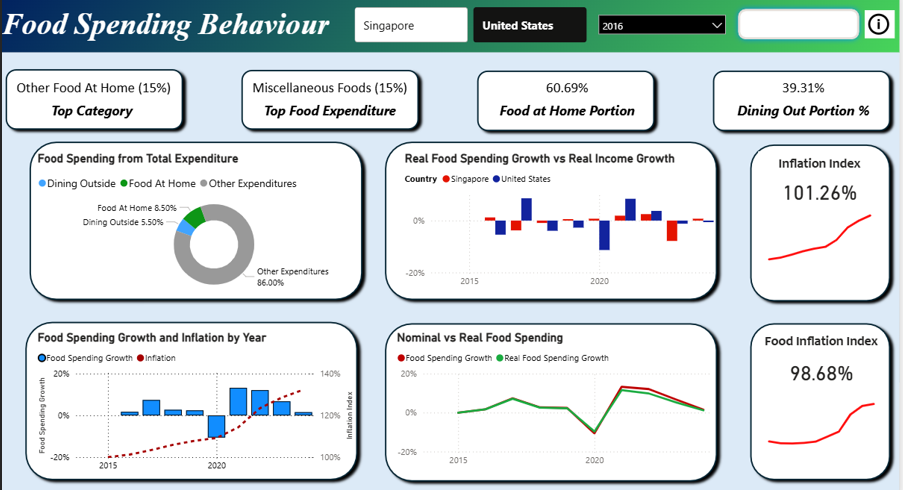

Layout of this report page (visuals, bound fields, positions):
{"tool":"powerbi","page":{"name":"Main Page","canvas":[1280,720],"ordinal":0},"visuals":[{"type":"group","id":"g1","title":"Group 1","box":[1080,225.9,173.4,187.7],"z":0},{"type":"advancedSlicerVisual","fields":{"Values":["Country Dim.Country"]},"box":[501,15.9,342,60.4],"z":1000},{"type":"textbox","box":[0,15.9,482,62],"z":2000},{"type":"slicer","fields":{"Values":["Year Dim.Year"]},"box":[843,22.3,200.4,52.5],"z":3000},{"type":"donutChart","title":"Food Spending from Total Expenditure","fields":{"Series":["AME Percentage.Attribute"],"Y":["Sum(AME Percentage.Value)"]},"box":[50.9,225.9,510.6,210],"z":4000},{"type":"lineChart","title":"Nominal vs Real Food Spending ","fields":{"Category":["Growth Percentage.Year"],"Y":["Sum(Growth Percentage.Food Spending Growth)","Sum(Growth Percentage.Real Food Spending Growth)"]},"box":[561.5,480.4,458.1,202],"z":5000},{"type":"clusteredColumnChart","title":"Real Food Spending Growth vs Real Income Growth","fields":{"Category":["Growth Percentage.Year"],"Y":["Sum(Growth Percentage.Food Minus Income Growth)"],"Series":["Country Dim.Country"]},"box":[572.6,225.9,450.1,202],"z":6000},{"type":"card","fields":{"Values":["Average Monthly Expenditure.Dining Out Portion %"]},"box":[1008.4,100.2,270.4,95.4],"z":7000},{"type":"lineClusteredColumnComboChart","title":"Real Food Spending Growth vs Inflation ","fields":{"Category":["Growth Percentage.Year"],"Y":["Sum(Growth Percentage.Real Food Spending Growth)"],"Y2":["Sum(Growth Percentage.Inflation )"]},"box":[50.9,480.4,458.1,210],"z":8000},{"type":"group","id":"g2","title":"Group 2","box":[1080,483.5,178.1,190.9],"z":9000},{"type":"card","fields":{"Values":["Average Monthly Expenditure.Food at Home Portion"]},"box":[672.3,100.2,270.4,95.4],"z":10000},{"type":"card","fields":{"Values":["Measures Table.Top Type of Expenditure"]},"box":[336.1,100.2,270.4,95.4],"z":11000},{"type":"card","fields":{"Values":["Measures Table.Top Category (Card)"]},"box":[0,100.2,270.4,95.4],"z":12000},{"type":"lineChart","fields":{"Category":["Growth Percentage.Year"],"Y":["Sum(Growth Percentage.Food Inflation)"]},"box":[1080,523.6,178.7,150.7],"z":12000,"group":"g2"},{"type":"lineChart","fields":{"Category":["Growth Percentage.Year"],"Y":["Sum(Growth Percentage.Inflation)"]},"box":[1080,268.2,173.5,145.4],"z":12500,"group":"g1"},{"type":"actionButton","box":[1043.4,15.9,187.7,58.9],"z":13000},{"type":"actionButton","box":[1231.1,25.4,42.9,39.8],"z":14000},{"type":"card","title":"Inflation Index","fields":{"Values":["Sum(Growth Percentage.Inflation)"]},"box":[1080,225.9,173.5,84.6],"z":14000,"group":"g1"},{"type":"card","title":"Food Inflation Index","fields":{"Values":["Sum(Growth Percentage.Food Inflation)"]},"box":[1080,483.5,178.7,87.7],"z":15500,"group":"g2"}]}

Visuals, with their boxes on the page's 1280x720 design canvas (x1, y1, x2, y2). These are canvas units, not pixel positions in the 903x490 screenshot, which may show the page scaled, cropped or inside an application window:
"Group 1" group: x1=1080 y1=226 x2=1253 y2=414
advancedSlicerVisual - Country Dim.Country: x1=501 y1=16 x2=843 y2=76
textbox: x1=0 y1=16 x2=482 y2=78
slicer - Year Dim.Year: x1=843 y1=22 x2=1043 y2=75
"Food Spending from Total Expenditure" donutChart: x1=51 y1=226 x2=562 y2=436
"Nominal vs Real Food Spending " lineChart: x1=562 y1=480 x2=1020 y2=682
"Real Food Spending Growth vs Real Income Growth" clusteredColumnChart: x1=573 y1=226 x2=1023 y2=428
card - Average Monthly Expenditure.Dining Out Portion %: x1=1008 y1=100 x2=1279 y2=196
"Real Food Spending Growth vs Inflation " lineClusteredColumnComboChart: x1=51 y1=480 x2=509 y2=690
"Group 2" group: x1=1080 y1=484 x2=1258 y2=674
card - Average Monthly Expenditure.Food at Home Portion: x1=672 y1=100 x2=943 y2=196
card - Measures Table.Top Type of Expenditure: x1=336 y1=100 x2=606 y2=196
card - Measures Table.Top Category (Card): x1=0 y1=100 x2=270 y2=196
lineChart - Growth Percentage.Year x Sum(Growth Percentage.Food Inflation): x1=1080 y1=524 x2=1259 y2=674
lineChart - Growth Percentage.Year x Sum(Growth Percentage.Inflation): x1=1080 y1=268 x2=1254 y2=414
actionButton: x1=1043 y1=16 x2=1231 y2=75
actionButton: x1=1231 y1=25 x2=1274 y2=65
"Inflation Index" card: x1=1080 y1=226 x2=1254 y2=310
"Food Inflation Index" card: x1=1080 y1=484 x2=1259 y2=571
